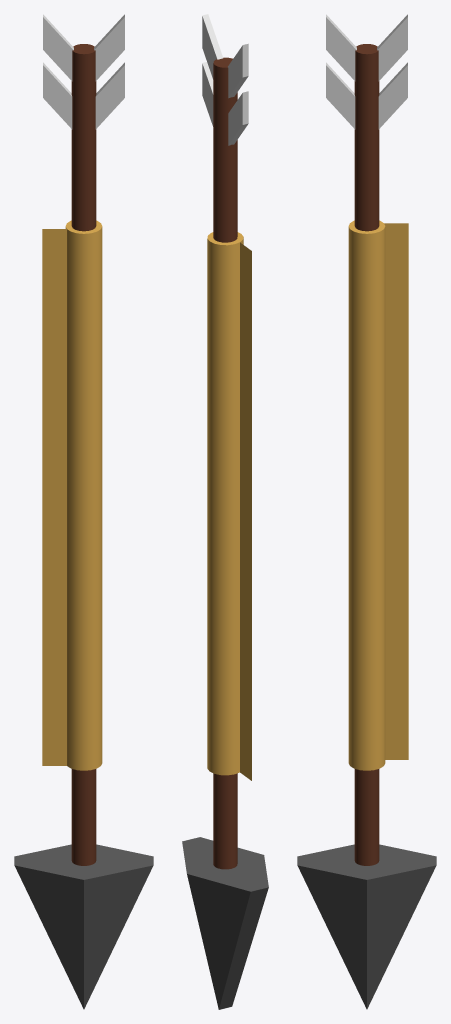
Rendered from Freccia (2).fbx.
3 views of the same model, side by side, from view 1: azimuth 90°, elevation 25°; view 2: azimuth 210°, elevation 25°; view 3: azimuth 270°, elevation 25° (orthographic).
Visible parts, largest first — view 1: Pergamena, Punta, Freccia, Aletta2; view 2: Pergamena, Punta, Freccia, Aletta2; view 3: Pergamena, Punta, Freccia, Aletta2.
Part boxes in pixels (<box>): Pergamena: <box>42,220,102,770</box>; Punta: <box>14,844,153,1009</box>; Freccia: <box>71,44,96,865</box>; Aletta2: <box>43,14,124,129</box>; Pergamena: <box>207,232,251,780</box>; Punta: <box>182,837,268,1009</box>; Freccia: <box>213,57,237,869</box>; Aletta2: <box>202,14,248,145</box>; Pergamena: <box>348,220,408,770</box>; Punta: <box>297,844,436,1009</box>; Freccia: <box>354,44,379,865</box>; Aletta2: <box>326,14,407,129</box>.
Bounding box in the file's own units: 1.47 × 17.8 × 2.27.
